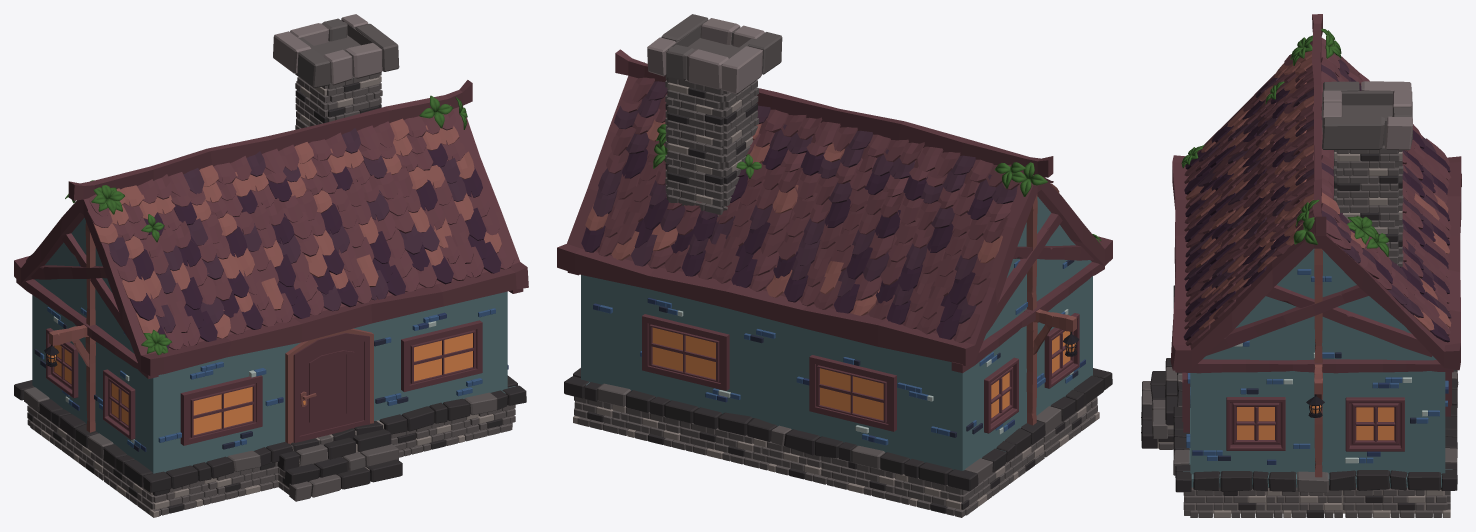
Rendered from casa-pedra11.fbx.
3 views of the same model, side by side, from view 1: azimuth 30°, elevation 25°; view 2: azimuth 150°, elevation 25°; view 3: azimuth 270°, elevation 25° (orthographic). The views are drawn at different scales.
Parts seen in each view (by area): view 1: Cube.061, Cube.002; view 2: Cube.061; view 3: Cube.061.
Part boxes in pixels (x1=…): Cube.061: x1=14, y1=14, x2=528, y2=517; Cube.002: x1=293, y1=333, x2=369, y2=442; Cube.061: x1=557, y1=14, x2=1112, y2=517; Cube.061: x1=1141, y1=14, x2=1461, y2=517.
Bounding box in the file's own units: 736 × 545 × 431.
